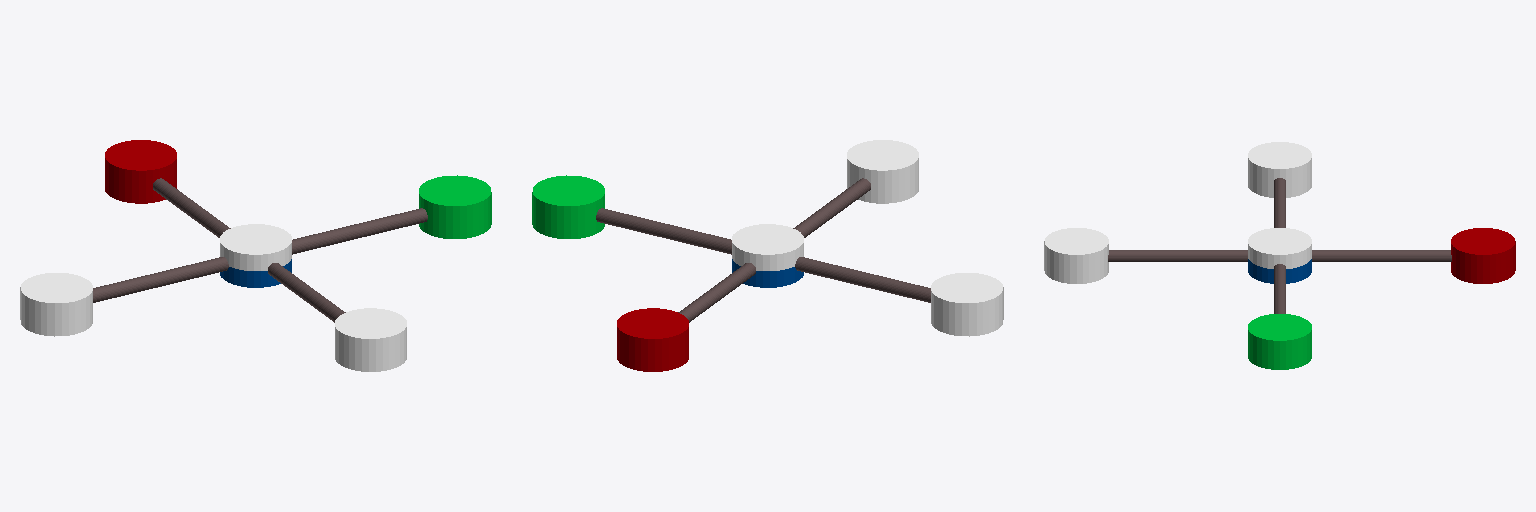
robot.urdf — quadrotor_Lee2010:
<?xml version="1.0"?>
<robot name="quadrotor_Lee2010">


	<!-- https://www.bricklink.com/catalogColors.asp -->
	<!-- Neon Orange -->
    <material name="Orange">
        <color rgba="0.98 0.349 0.278 1.0" />
    </material>

	<!-- Red -->
	<material name="Red">
        <color rgba="0.702 0.0 0.024 1.0" />
    </material>

	<!-- Blue -->
	<material name="Blue">
        <color rgba="0.0 0.341 0.651 1.0" />
    </material>

	<!-- Dark Blueish Gray -->
	<material name="Gray">
		<color rgba="0.42 0.353 0.353 1.0" />
	</material>

	<!-- Dark Azure -->
	<material name="Azure">
        <color rgba="0.0 0.624 0.878 1.0" />
    </material>

    <material name="Green">
        <color rgba="0.0 0.824 0.278 1.0" />
    </material>
    
    <material name="White">
        <color rgba="1.0 1.0 1.0 1.0" />
    </material>

    <material name="Cyan">
        <color rgba="0.71 0.91 0.3 1.0" />
    </material>

	<material name="Black">
        <color rgba="0.0 0.0 0.0 1.0" />
    </material>


    <link name="body">
        <inertial>
            <mass value="4.34" />
            <inertia ixx="0.0820" ixy="0" ixz="0" iyy="0.0845" iyz="0" izz="0.1377" />
        </inertial>
        <!-- center body -->
        <visual>
			<origin xyz="0 0 0.0125"/>
            <material name="White" />
            <geometry>
                <cylinder radius="0.05" length="0.025" />
            </geometry>
        </visual>
		<visual>
			<origin xyz="0 0 -0.0125"/>
            <material name="Blue" />
            <geometry>
                <cylinder radius="0.05" length="0.025" />
            </geometry>
        </visual>
        <!-- spokes -->
        <visual>
            <origin xyz="0 0.1575 0" rpy="1.5708 0 0"/>
            <material name="Gray" />
            <geometry>
                <cylinder radius="0.01" length="0.315" />
            </geometry>
        </visual>
		<visual>
            <origin xyz="0 -0.1575 0" rpy="1.5708 0 0"/>
            <material name="Gray" />
            <geometry>
                <cylinder radius="0.01" length="0.315" />
            </geometry>
        </visual>
		<visual>
            <origin xyz="0.1575 0 0" rpy="0 1.5708 0"/>
            <material name="Gray" />
            <geometry>
                <cylinder radius="0.01" length="0.315" />
            </geometry>
        </visual>
		<visual>
            <origin xyz="-0.1575 0 0" rpy="0 1.5708 0"/>
            <material name="Gray" />
            <geometry>
                <cylinder radius="0.01" length="0.315" />
            </geometry>
        </visual>
		<!-- Rotor Guards -->
		<visual>
            <origin xyz="0.315 0 0"/>
            <material name="Green" />
            <geometry>
                <cylinder radius="0.05" length="0.05" />
            </geometry>
        </visual>
		<visual>
            <origin xyz="-0.315 0 0"/>
            <material name="White" />
            <geometry>
                <cylinder radius="0.05" length="0.05" />
            </geometry>
        </visual>
		<visual>
            <origin xyz="0 0.315 0"/>
            <material name="Red" />
            <geometry>
                <cylinder radius="0.05" length="0.05" />
            </geometry>
        </visual>
		<visual>
            <origin xyz="0 -0.315 0"/>
            <material name="White" />
            <geometry>
                <cylinder radius="0.05" length="0.05" />
            </geometry>
        </visual>
    </link>

</robot>

--- Render facts (derived) ---
3 views of the same robot in one strip: view 1: azimuth 30°, elevation 25°; view 2: azimuth 150°, elevation 25°; view 3: azimuth 270°, elevation 25° (orthographic).
Robot: quadrotor_Lee2010 — 1 links, 0 joints (none); root link body; default pose: every joint at zero.
Visible links, largest first — view 1: body; view 2: body; view 3: body.
Link boxes in pixels (x1,y1,x2,y2): body: (20,140,491,371); body: (532,140,1003,371); body: (1044,142,1515,369).
Bounding box of the posed robot: 0.73 × 0.73 × 0.05 m (x, y, z).
Geometry: primitives only (box / cylinder / sphere), no mesh files.
